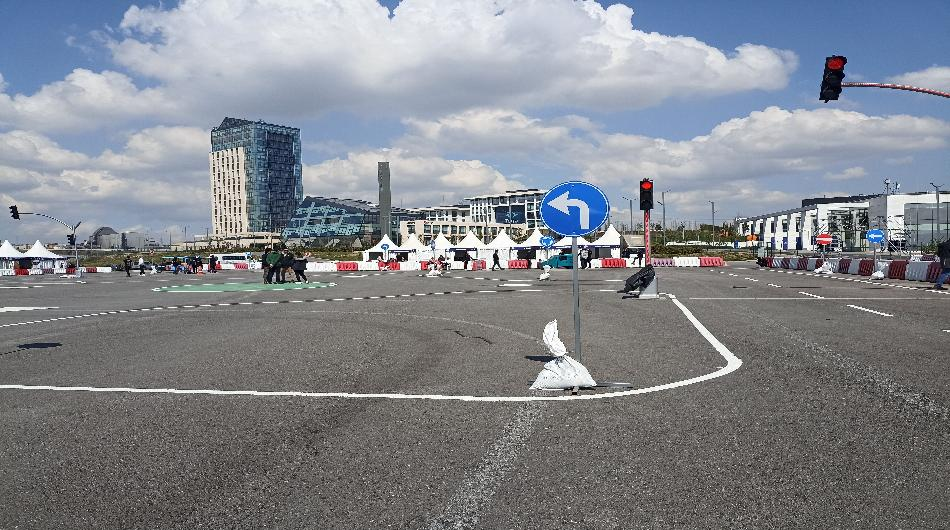ada: (536, 233, 561, 252)
red_light: (819, 52, 849, 104), (638, 178, 654, 214)
sola_mecburi_2: (537, 177, 612, 233)
